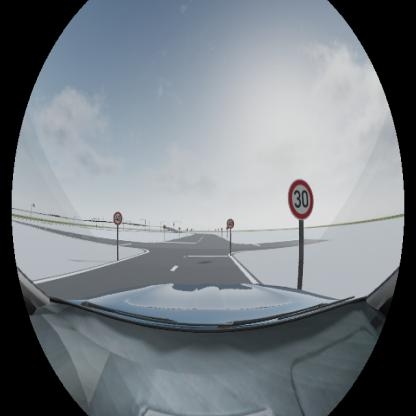Speed Limit 30: (288, 180, 313, 220)
